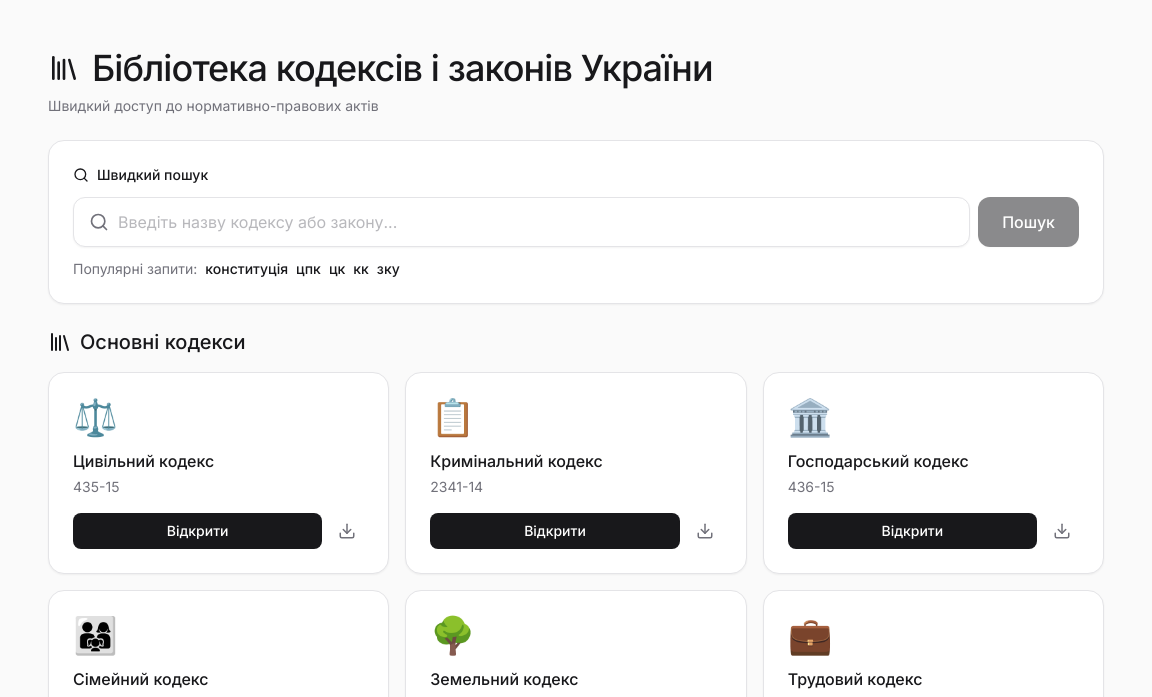
Test: LegalCodesLibraryPage › Popular queries › sets input value when popular query is clicked
The width and height of the screenshot is (1152, 697).
Click the button "цпк": click(308, 269) [296,259,321,279]
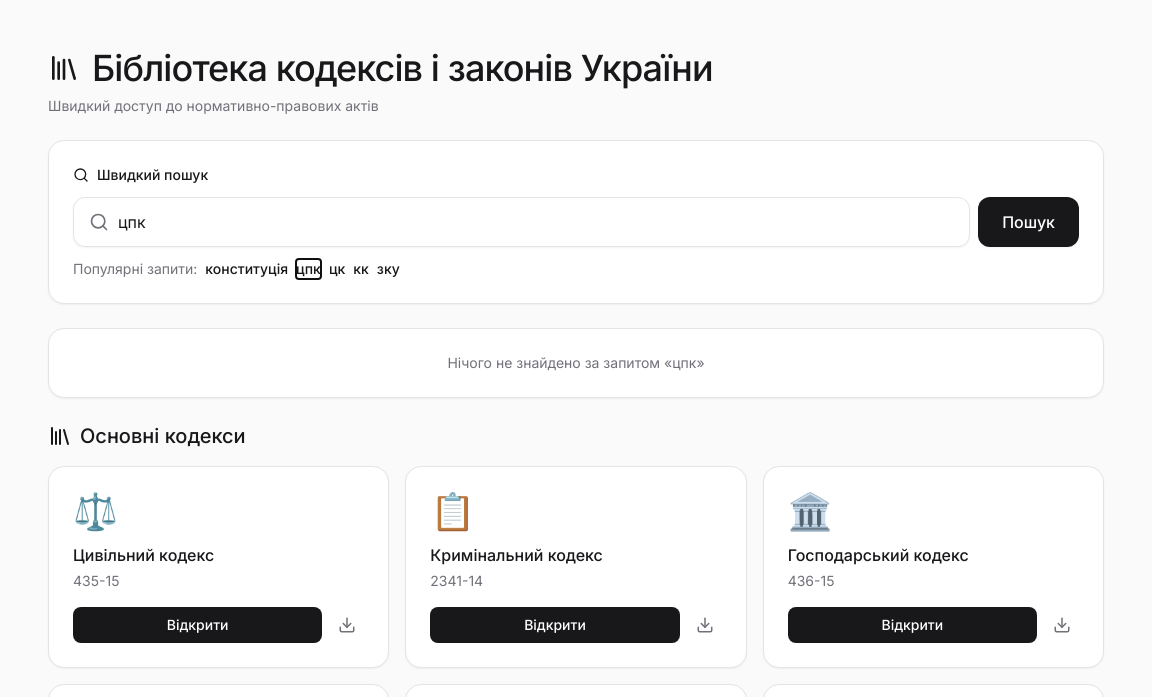
Expected: the field with placeholder "Введіть назву кодексу або закону..." holds "цпк", [73,197,970,247]
